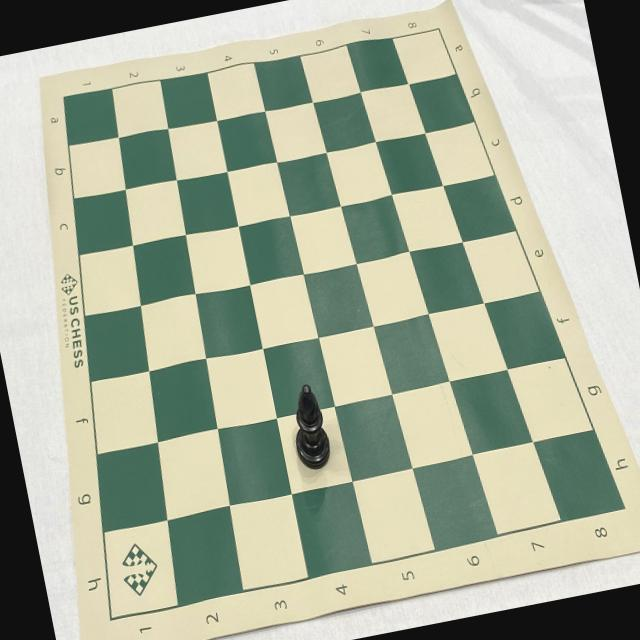black-bishop: (284, 382, 336, 473)
